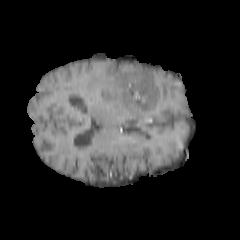glioma: (90, 69, 161, 111)
